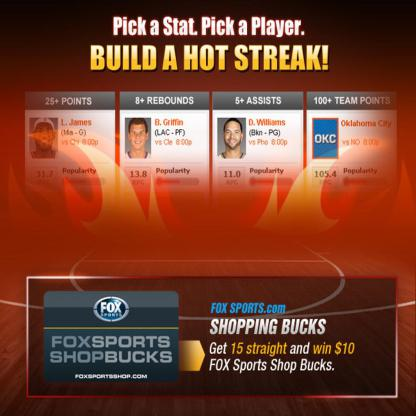face: (36, 124, 54, 150), (225, 122, 242, 149), (131, 124, 146, 151)
